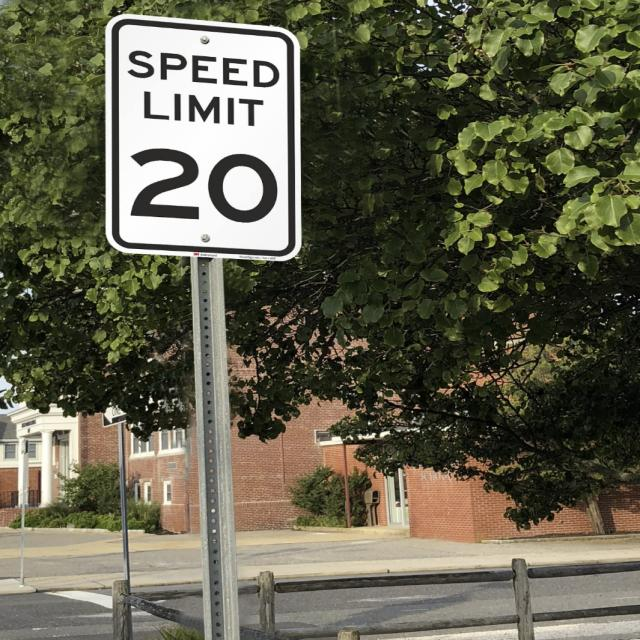speedLimit20: (112, 21, 300, 253)
